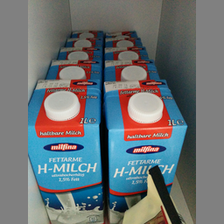milk: (104, 79, 189, 224), (27, 78, 106, 224)
